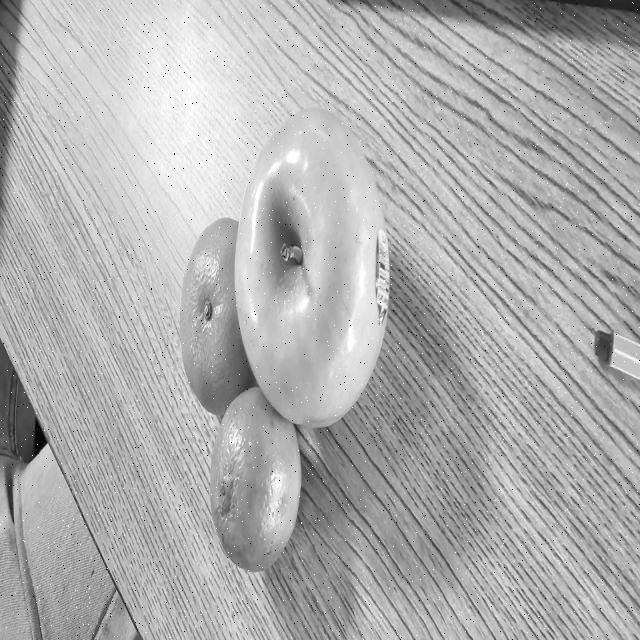Apel Granny Smith: (232, 99, 396, 431)
Jeruk Mandarin: (178, 210, 261, 420)
Lemon: (206, 382, 306, 582)
